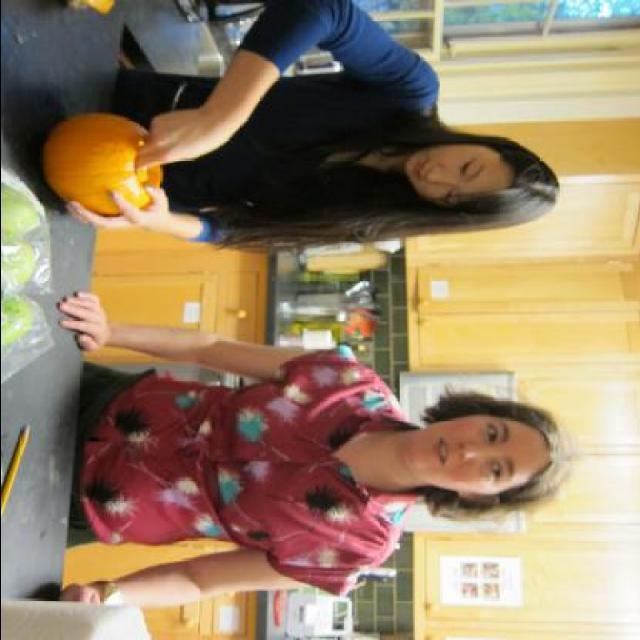Pumpkin: (34, 105, 157, 208)
